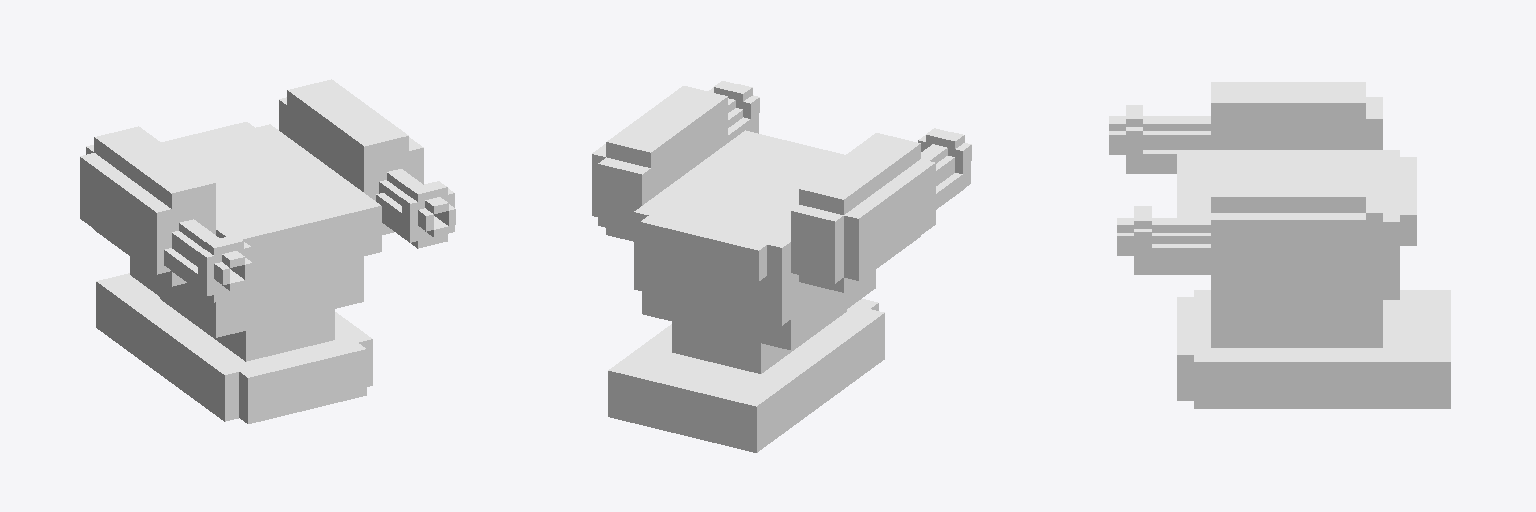
File: testRobot2-1.obj
3 renders of one model, left to right at view 1: azimuth 30°, elevation 25°; view 2: azimuth 150°, elevation 25°; view 3: azimuth 270°, elevation 25°, orthographic.
Parts seen in each view (by area): view 1: object 1; view 2: object 1; view 3: object 1.
Boxes of the visible parts, x1=… form: object 1: x1=80, y1=79, x2=455, y2=423; object 1: x1=592, y1=81, x2=971, y2=452; object 1: x1=1109, y1=82, x2=1450, y2=408.
Bounding box in the file's own units: 3.6 × 3 × 4.